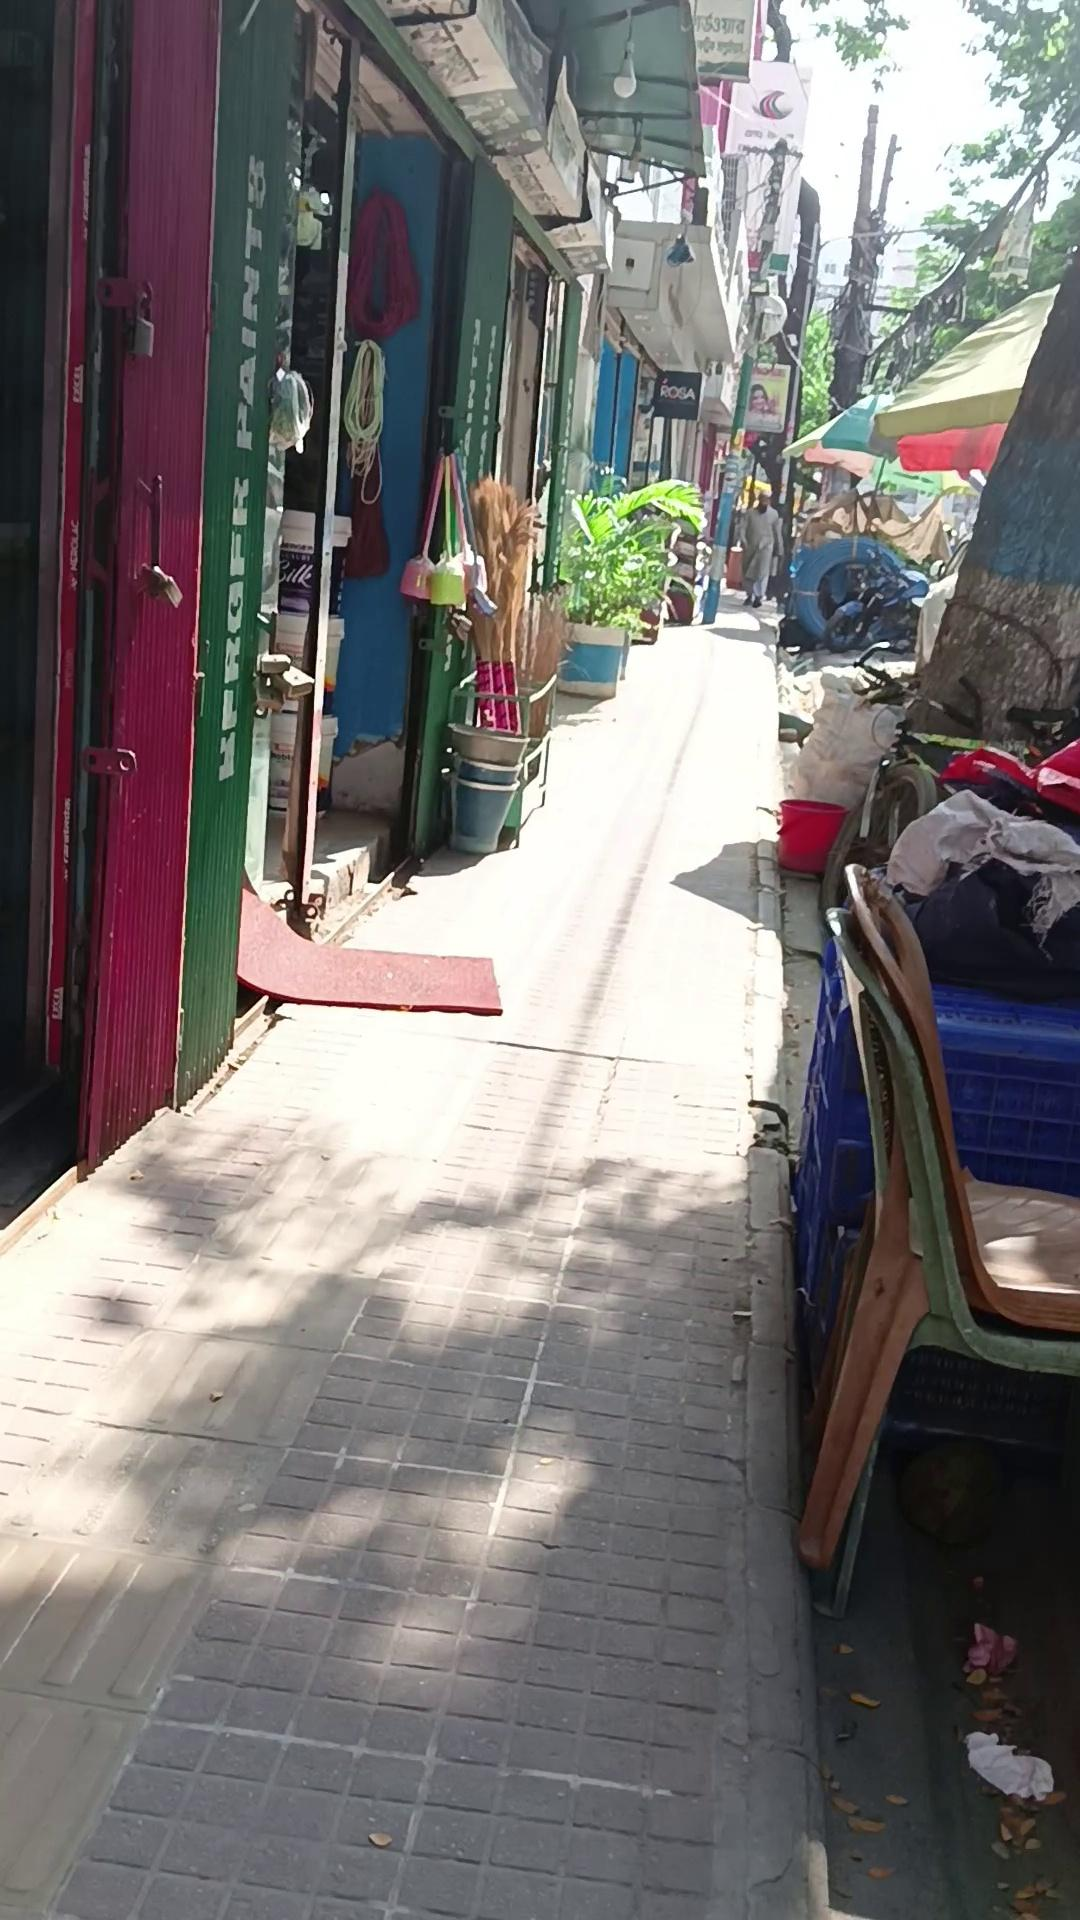Animal: (789, 858, 1077, 1617)
Broken-road: (713, 831, 829, 1916)
Cat: (923, 975, 1077, 1197), (774, 796, 848, 876)
Curb: (736, 489, 782, 608)
Fallen-tree: (553, 467, 705, 700)
Garbage: (1, 576, 827, 1917)
